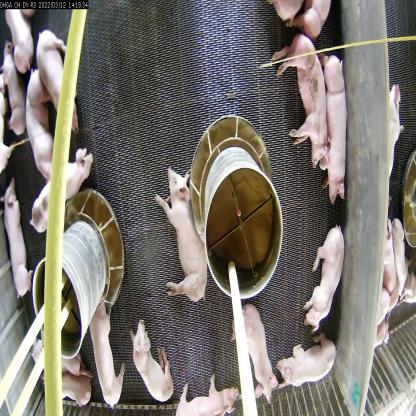Pig: (273, 27, 330, 186), (167, 163, 211, 300), (32, 157, 96, 238), (329, 38, 357, 209), (90, 297, 134, 403), (309, 232, 350, 343), (236, 302, 282, 396), (129, 322, 175, 409), (1, 174, 35, 290), (26, 78, 64, 168), (279, 345, 342, 394), (42, 34, 76, 124), (7, 0, 45, 76), (179, 376, 237, 415), (53, 368, 98, 415)
